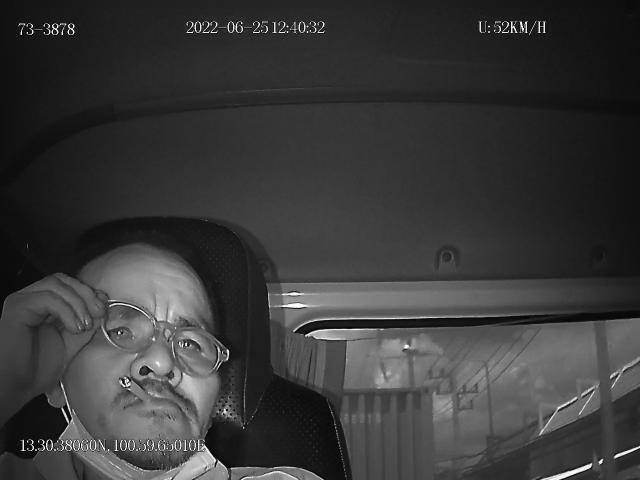SafeDriving: (168, 324, 212, 363), (100, 314, 139, 352)
Smoking: (116, 373, 152, 399)
